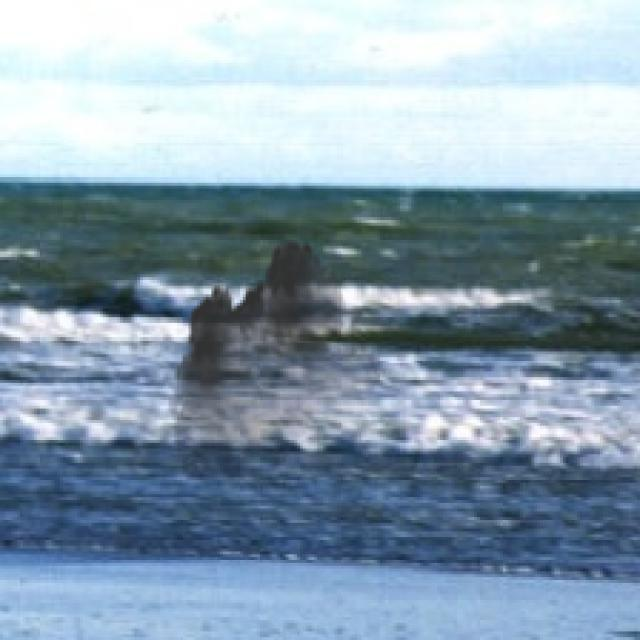smoke: (168, 228, 388, 503)
